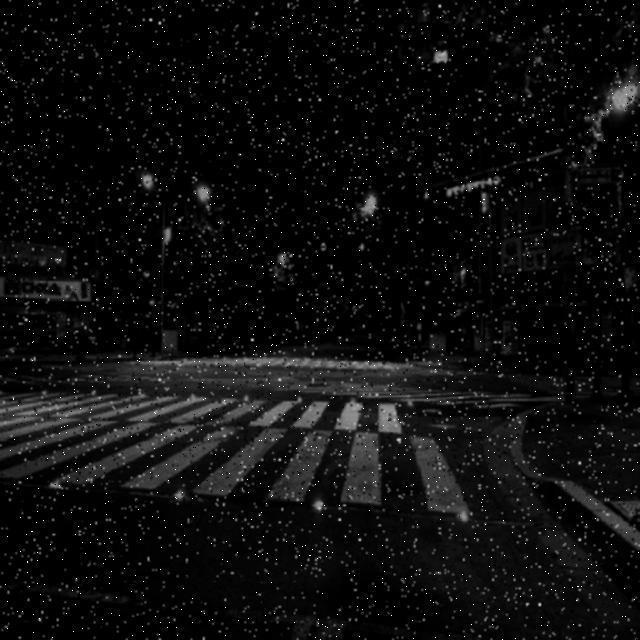crosswalk: (4, 410, 470, 519), (7, 386, 405, 431)
